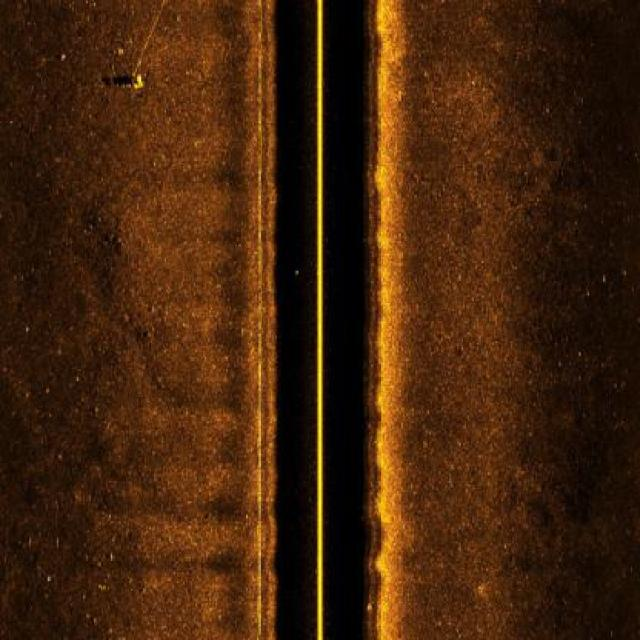mine: (126, 69, 157, 91)
